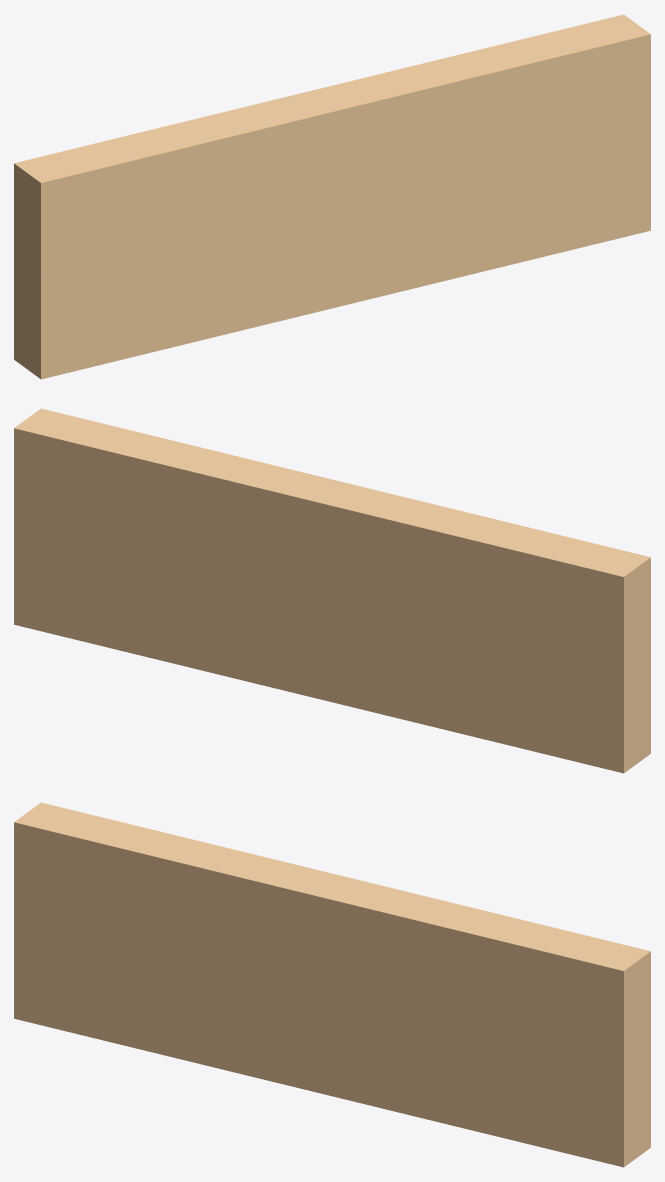
The model's file is tool_6-Group_69.gltf.
3 renders of one model, top to bottom at view 1: azimuth 30°, elevation 25°; view 2: azimuth 150°, elevation 25°; view 3: azimuth 330°, elevation 25°, orthographic.
Visible parts, largest first — view 1: <组件#61>_38, <组件#61>_37, <组件#61>_39, <组件#61>_36; view 2: <组件#61>_38, <组件#61>_37, <组件#61>_39, <组件#61>_36; view 3: <组件#61>_38, <组件#61>_37, <组件#61>_39, <组件#61>_36.
Boxes of the visible parts, x1,y1,x2,y2 form: <组件#61>_38: [14, 14, 650, 231]; <组件#61>_37: [14, 181, 650, 379]; <组件#61>_39: [14, 83, 650, 281]; <组件#61>_36: [14, 132, 650, 330]; <组件#61>_38: [14, 408, 650, 625]; <组件#61>_37: [14, 575, 650, 773]; <组件#61>_39: [14, 477, 650, 675]; <组件#61>_36: [14, 526, 650, 724]; <组件#61>_38: [14, 802, 650, 1019]; <组件#61>_37: [14, 969, 650, 1167]; <组件#61>_39: [14, 871, 650, 1069]; <组件#61>_36: [14, 920, 650, 1118].
Bounding box in the file's own units: 102 × 31.5 × 7.87.
